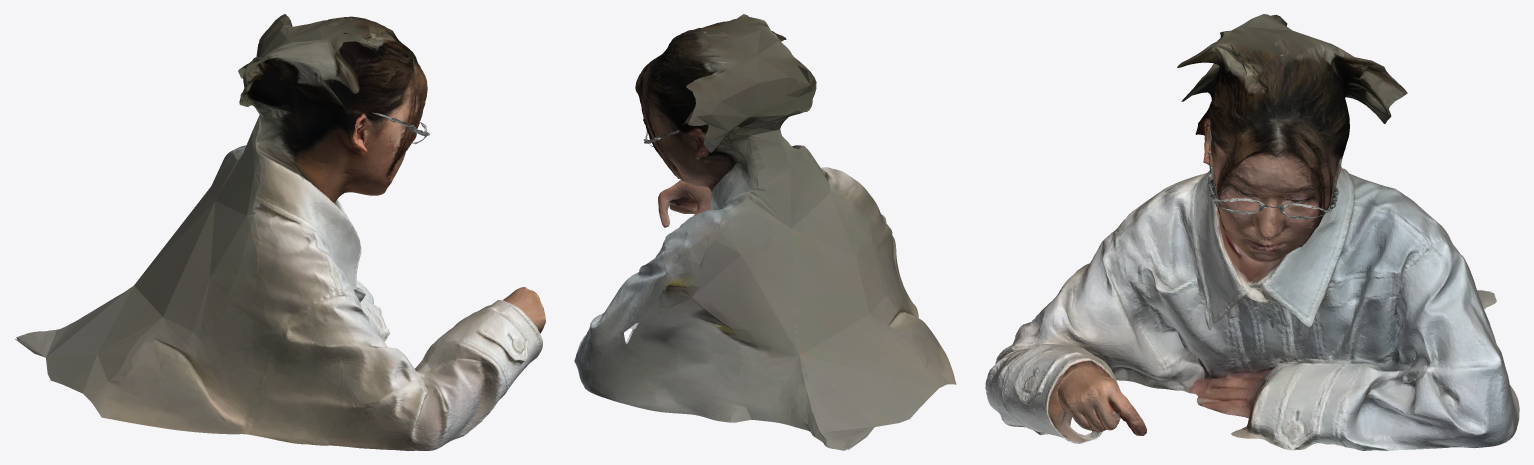
File: bea-with-glasses-compressed.glb
3 views of the same model, side by side, from view 1: azimuth 30°, elevation 25°; view 2: azimuth 150°, elevation 25°; view 3: azimuth 270°, elevation 25° (orthographic). The views are drawn at different scales.
Visible parts, largest first — view 1: Mesh_0.003; view 2: Mesh_0.003; view 3: Mesh_0.003.
Boxes of the visible parts, x1,y1,x2,y2 form: Mesh_0.003: (15, 14, 545, 450); Mesh_0.003: (574, 14, 956, 450); Mesh_0.003: (985, 14, 1519, 450).
Size of the model in its own units: 1.18 by 0.986 by 1.26.
2 materials, 2 textured.
